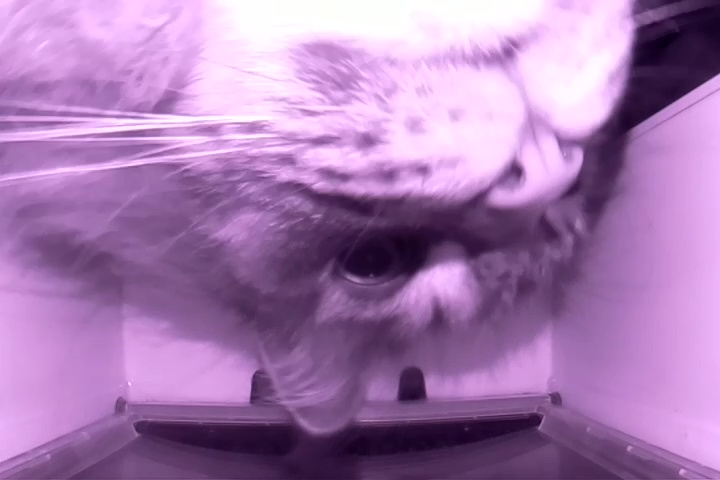Snout: (353, 6, 641, 215)
